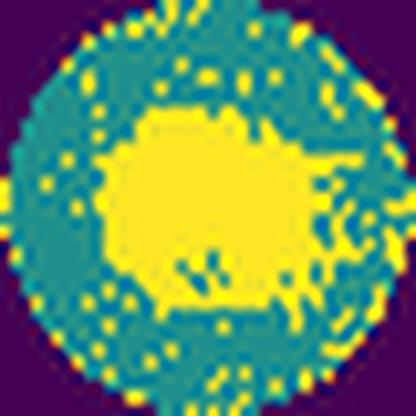Center: (100, 106, 363, 308)
